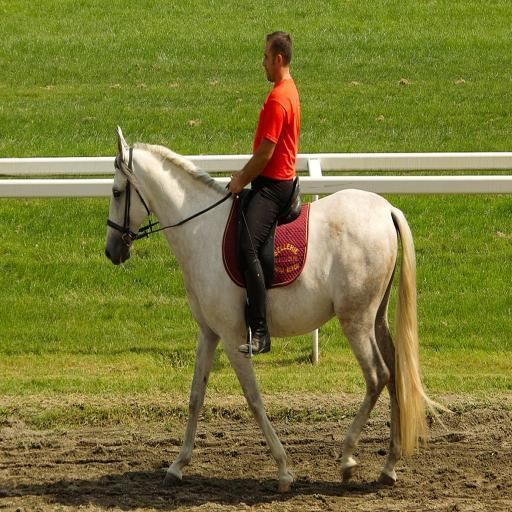horse: (103, 124, 455, 498)
